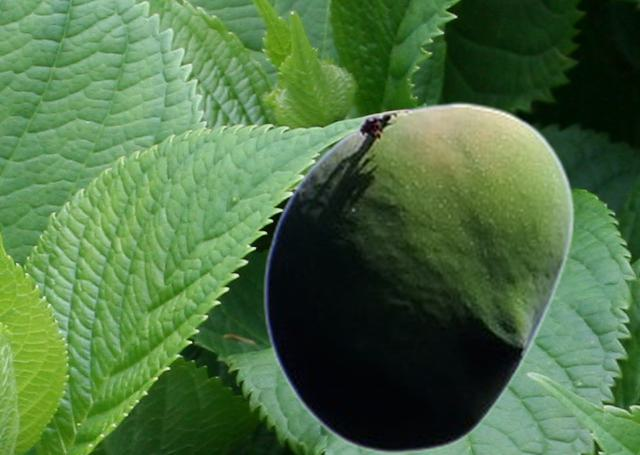green_mango: (262, 101, 575, 453)
